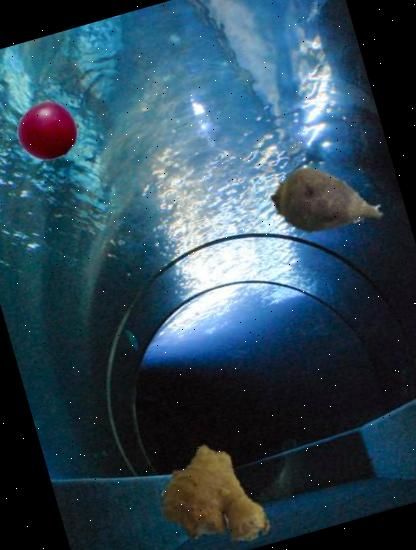Beetroot: (250, 128, 401, 278)
Cherry: (12, 94, 86, 169)
Ginger: (149, 428, 290, 550)
